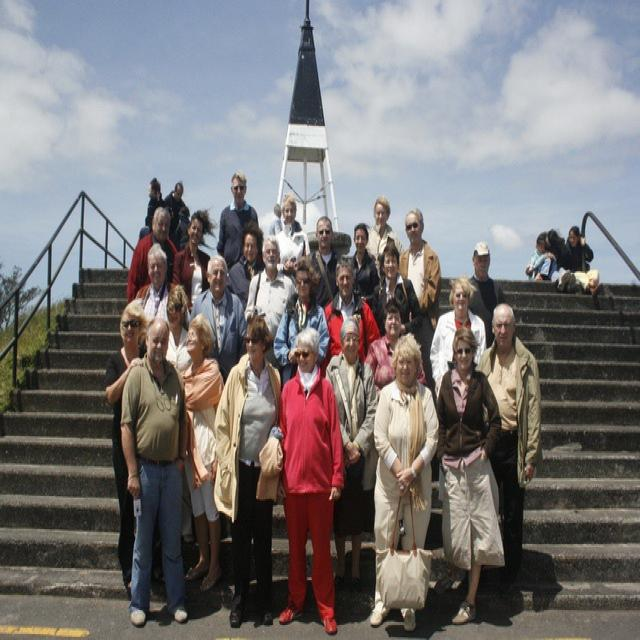body: (210, 309, 284, 628), (119, 313, 191, 627), (367, 330, 441, 632), (434, 324, 506, 626), (470, 300, 543, 595), (275, 324, 344, 636), (385, 547, 564, 640), (323, 313, 378, 588), (103, 298, 149, 592), (179, 312, 225, 594), (243, 234, 301, 384), (164, 284, 196, 546), (189, 252, 248, 387), (428, 274, 487, 400), (272, 262, 331, 387), (322, 258, 382, 376), (363, 297, 427, 400), (125, 202, 180, 306), (398, 207, 442, 333), (368, 240, 425, 337), (171, 207, 215, 315), (215, 168, 260, 273), (465, 240, 506, 349), (172, 208, 212, 315), (226, 220, 267, 312), (134, 241, 177, 324), (524, 230, 577, 296), (363, 195, 405, 277), (306, 213, 341, 309), (271, 190, 311, 260), (349, 220, 380, 297), (562, 223, 595, 274), (163, 180, 190, 240), (143, 175, 168, 237), (527, 232, 557, 282)
